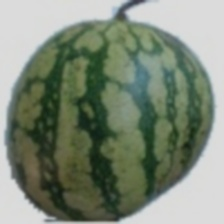watermelon: (10, 33, 196, 187)
